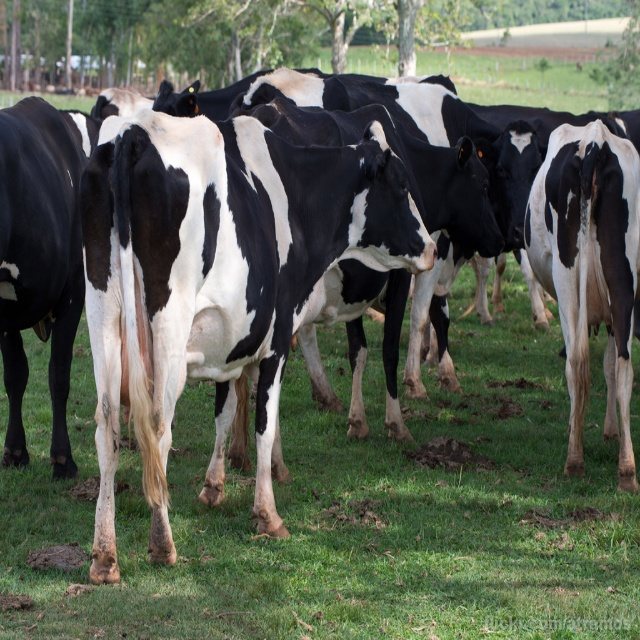Cattle: (0, 64, 640, 586)
